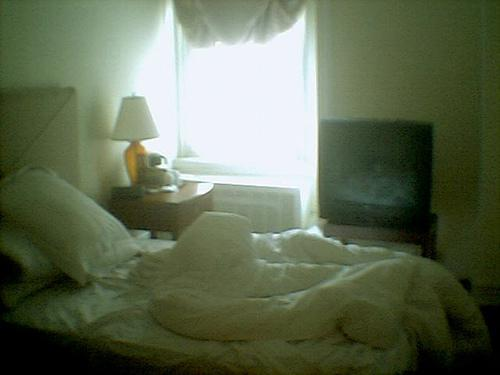tv: (316, 118, 430, 236)
